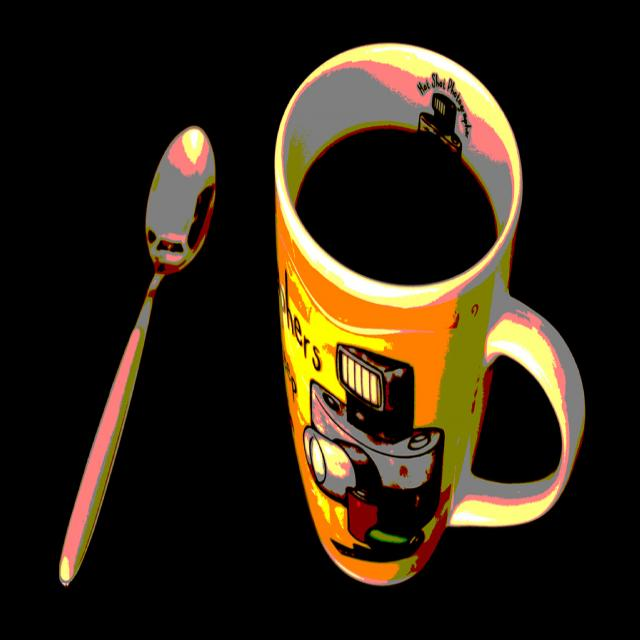Coffee: (286, 56, 561, 578)
